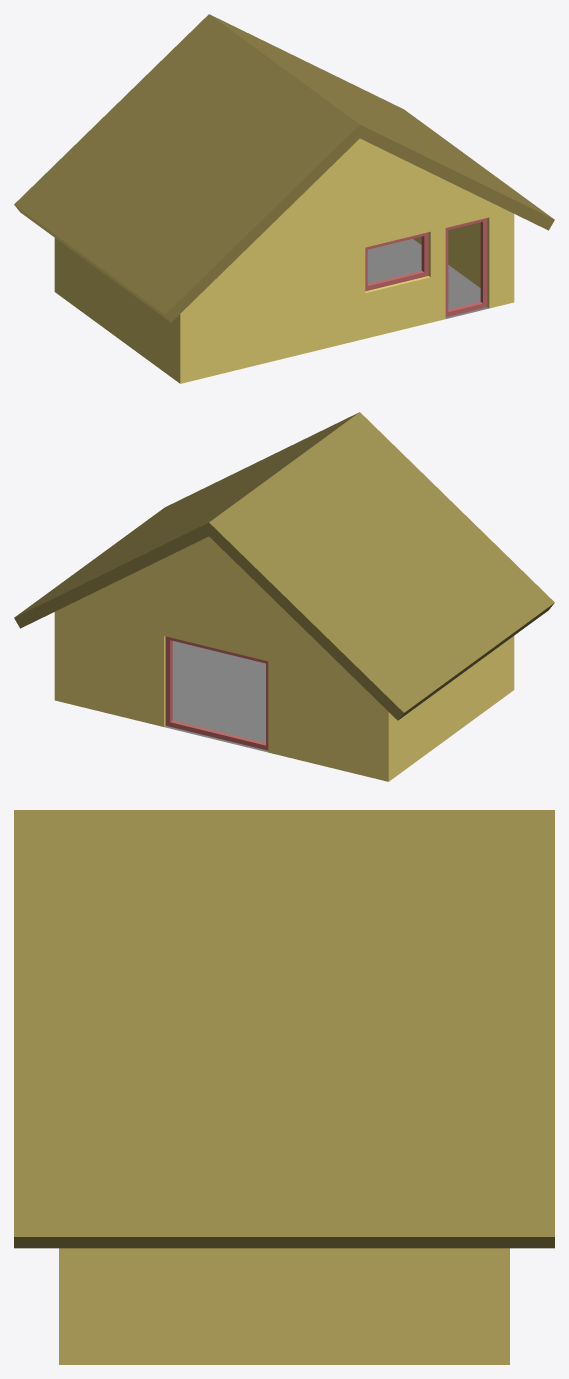
The model's file is result.glb.
3 views of the same model, one above another, from view 1: azimuth 30°, elevation 25°; view 2: azimuth 150°, elevation 25°; view 3: azimuth 270°, elevation 25° (orthographic). The views are drawn at different scales.
Visible parts, largest first — view 1: 89286071-d5c0-435a-b9ad-874837f6c285__undefined (×2), e4829383-2003-48c3-9952-ac81b1ac9bbd__undefined, b33de181-cb0c-4001-8a5a-260ff5709bf0__Plane_6, 4f85a8c3-5419-46b2-ae2b-28e4af83039f__Box, 4488d9bc-5ea0-414a-893a-c783e8198d08__Box_3; view 2: 89286071-d5c0-435a-b9ad-874837f6c285__undefined (×2), e4829383-2003-48c3-9952-ac81b1ac9bbd__undefined, b33de181-cb0c-4001-8a5a-260ff5709bf0__Plane_6, 615bfa8b-1b19-42e6-a0ff-ee845e3c9861__Box_9; view 3: 89286071-d5c0-435a-b9ad-874837f6c285__undefined, e4829383-2003-48c3-9952-ac81b1ac9bbd__undefined.
Part boxes in pixels (left/top/right/bottom): 89286071-d5c0-435a-b9ad-874837f6c285__undefined (×2): left=14, top=14, right=554, bottom=322; e4829383-2003-48c3-9952-ac81b1ac9bbd__undefined: left=54, top=138, right=514, bottom=383; b33de181-cb0c-4001-8a5a-260ff5709bf0__Plane_6: left=367, top=239, right=488, bottom=318; 4f85a8c3-5419-46b2-ae2b-28e4af83039f__Box: left=445, top=218, right=487, bottom=317; 4488d9bc-5ea0-414a-893a-c783e8198d08__Box_3: left=365, top=232, right=428, bottom=291; 89286071-d5c0-435a-b9ad-874837f6c285__undefined (×2): left=14, top=412, right=554, bottom=720; e4829383-2003-48c3-9952-ac81b1ac9bbd__undefined: left=54, top=536, right=514, bottom=781; b33de181-cb0c-4001-8a5a-260ff5709bf0__Plane_6: left=164, top=641, right=268, bottom=752; 615bfa8b-1b19-42e6-a0ff-ee845e3c9861__Box_9: left=165, top=636, right=268, bottom=750; 89286071-d5c0-435a-b9ad-874837f6c285__undefined: left=14, top=810, right=554, bottom=1248; e4829383-2003-48c3-9952-ac81b1ac9bbd__undefined: left=59, top=1248, right=509, bottom=1364.
Size of the model in its own units: 896 by 500 by 600.
